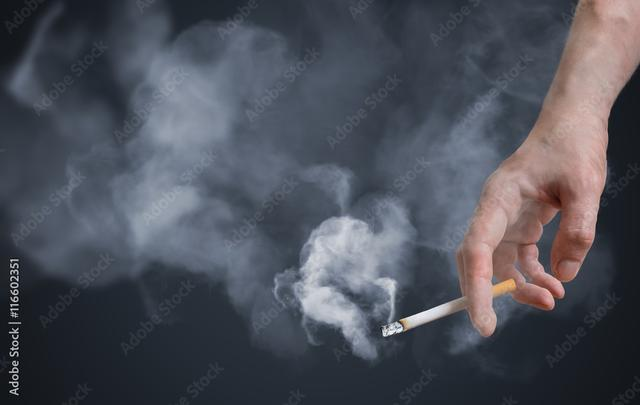Cigarette: (379, 277, 517, 338)
